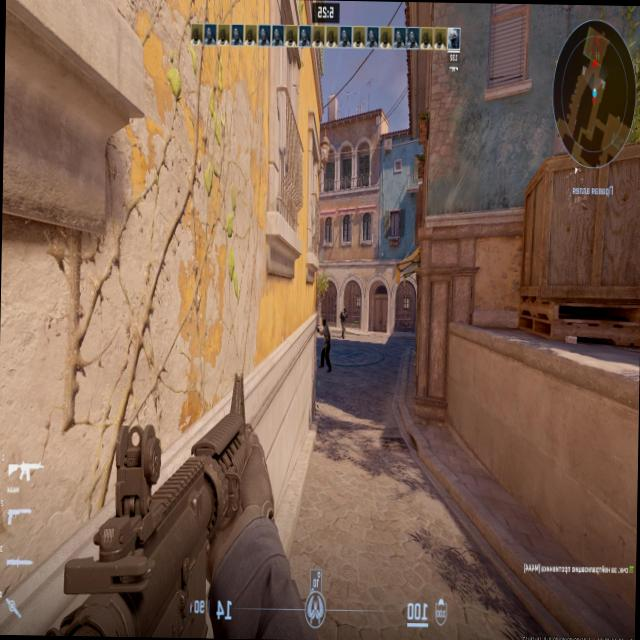CT: (342, 307, 348, 338)
CT_heat: (342, 310, 347, 312)
T: (321, 319, 330, 358)
T_heat: (322, 322, 326, 328)
